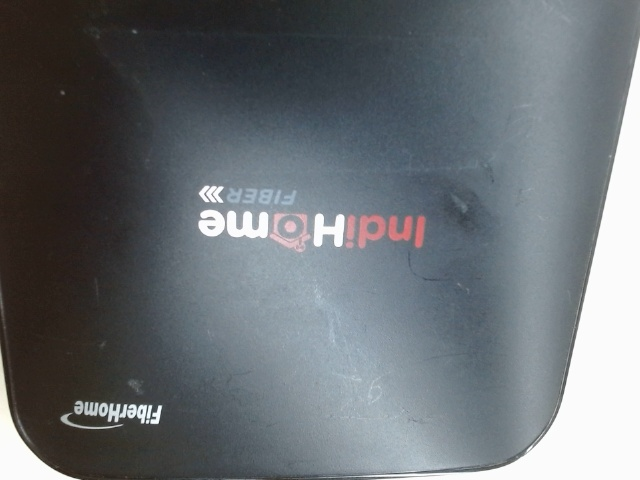AF_IndiHome: (178, 174, 437, 256)
